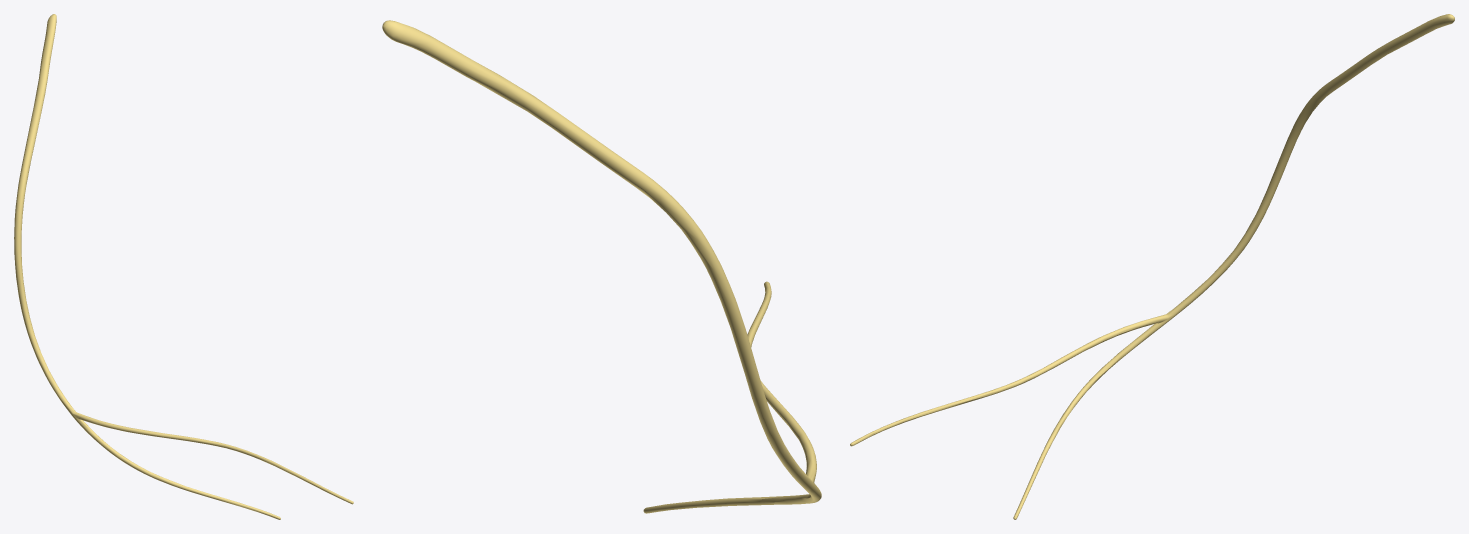
The model's file is fma53067_fj3897.glb.
3 views of the same model, side by side, from view 1: azimuth 30°, elevation 25°; view 2: azimuth 150°, elevation 25°; view 3: azimuth 270°, elevation 25° (orthographic). The views are drawn at different scales.
Parts seen in each view (by area): view 1: FMA53067_FJ3897; view 2: FMA53067_FJ3897; view 3: FMA53067_FJ3897.
Part boxes in pixels (box(x1,y1,x2,y2)): FMA53067_FJ3897: box(14, 14, 353, 519); FMA53067_FJ3897: box(382, 20, 821, 513); FMA53067_FJ3897: box(850, 14, 1454, 519).
Size of the model in its own units: 0.018 by 0.0403 by 0.0465.
